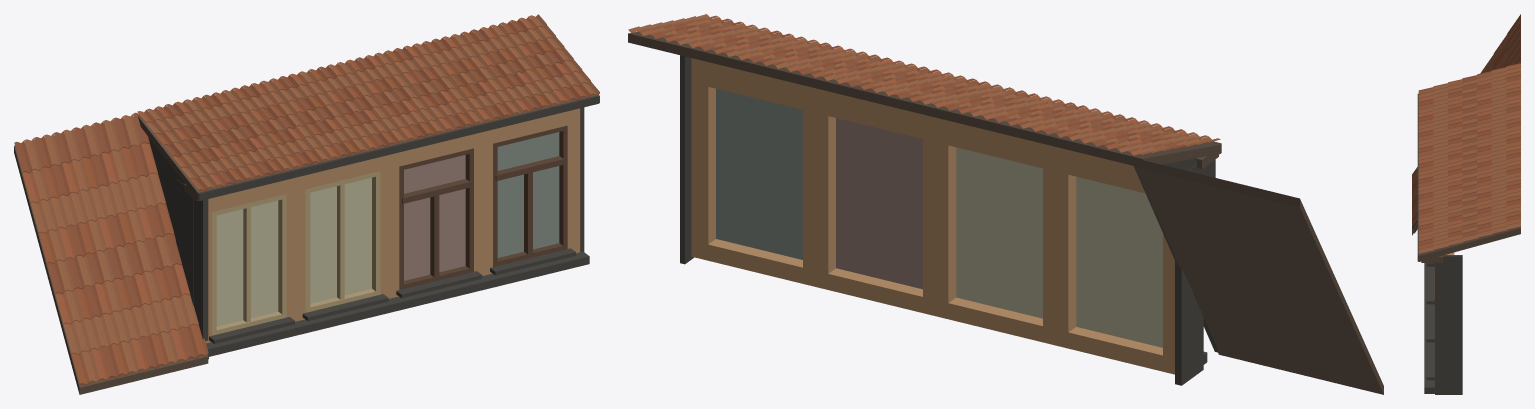
Rendered from hongkou-yaxiya-huangdu-109-four-window-dormer-lod.glb.
The picture shows the model from 3 angles, left to right: view 1: azimuth 30°, elevation 25°; view 2: azimuth 150°, elevation 25°; view 3: azimuth 270°, elevation 25°; orthographic projection. The views are drawn at different scales.
Parts seen in each view (by area): view 1: 亚细亚里黄渡路109号四窗老虎窗与瓦坡; view 2: 亚细亚里黄渡路109号四窗老虎窗与瓦坡; view 3: 亚细亚里黄渡路109号四窗老虎窗与瓦坡.
Part boxes in pixels (x1,y1,x2,y2): 亚细亚里黄渡路109号四窗老虎窗与瓦坡: (14,14,599,394); 亚细亚里黄渡路109号四窗老虎窗与瓦坡: (628,14,1383,394); 亚细亚里黄渡路109号四窗老虎窗与瓦坡: (1412,14,1520,394).
Bounding box in the file's own units: 5.82 × 2.2 × 1.26.
